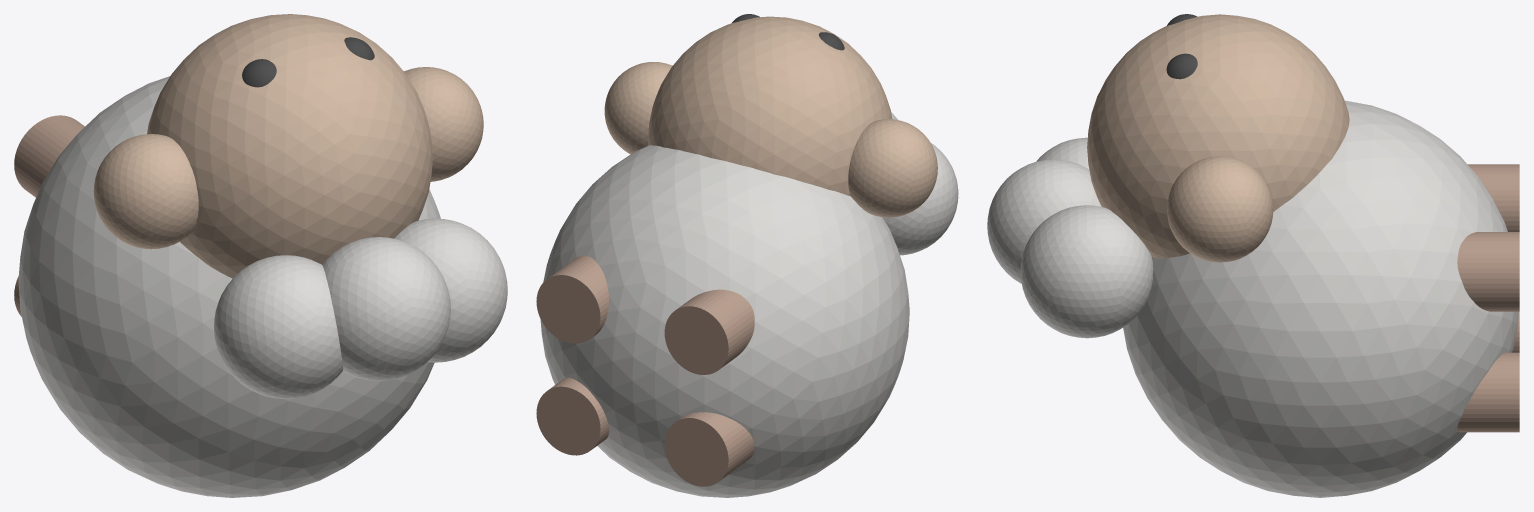
The model's file is lamb_colored.glb.
3 views of the same model, side by side, from view 1: azimuth 30°, elevation 25°; view 2: azimuth 150°, elevation 25°; view 3: azimuth 270°, elevation 25° (orthographic). The views are drawn at different scales.
Parts seen in each view (by area): view 1: wool_body, head, wool_bump_1, wool_bump_2, ear_left, wool_bump_3, ear_right, leg_3, eye_left; view 2: wool_body, head, ear_left, leg_3, leg_1, leg_4, leg_2, ear_right, wool_bump_1; view 3: wool_body, head, wool_bump_3, ear_right, wool_bump_2, leg_4, leg_2, leg_3, wool_bump_1, eye_right.
Boxes of the visible parts, x1,y1,x2,y2 form: wool_body: (18,76,440,497); head: (147,14,432,278); wool_bump_1: (214,255,343,399); wool_bump_2: (322,237,450,380); ear_left: (93,134,198,249); wool_bump_3: (394,218,507,362); ear_right: (404,67,483,181); leg_3: (14,115,84,197); eye_left: (242,59,276,87); wool_body: (540,145,909,497); head: (648,16,892,195); ear_left: (848,119,937,217); leg_3: (664,289,754,374); leg_1: (664,412,754,486); leg_4: (536,255,608,343); leg_2: (536,378,608,455); ear_right: (604,62,672,154); wool_bump_1: (882,143,958,255); wool_body: (1123,100,1518,497); head: (1087,14,1349,258); wool_bump_3: (1020,205,1153,338); ear_right: (1167,156,1273,262); wool_bump_2: (987,159,1101,283); leg_4: (1457,232,1519,311); leg_2: (1457,352,1519,432); leg_3: (1468,164,1519,231); wool_bump_1: (1036,137,1089,169); eye_right: (1166,53,1197,79).
Bounding box in the file's own units: 60 × 75 × 80.
